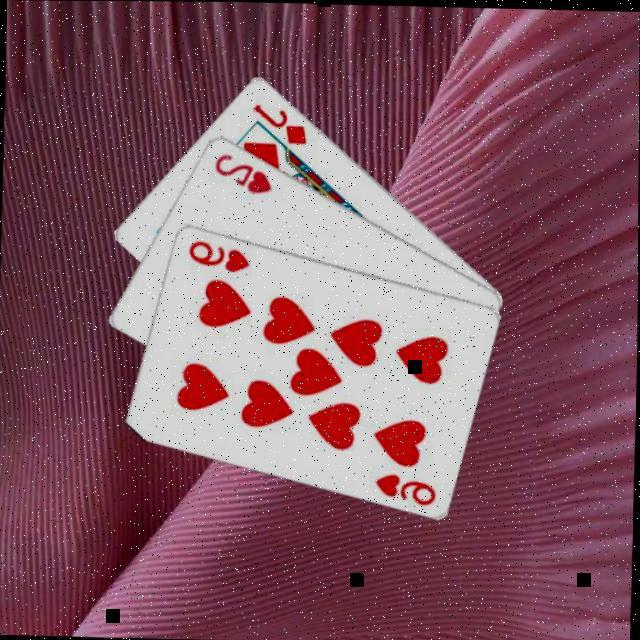2H: (208, 150, 274, 197)
9H: (369, 469, 438, 508), (181, 237, 250, 274)
JD: (247, 100, 309, 147)
